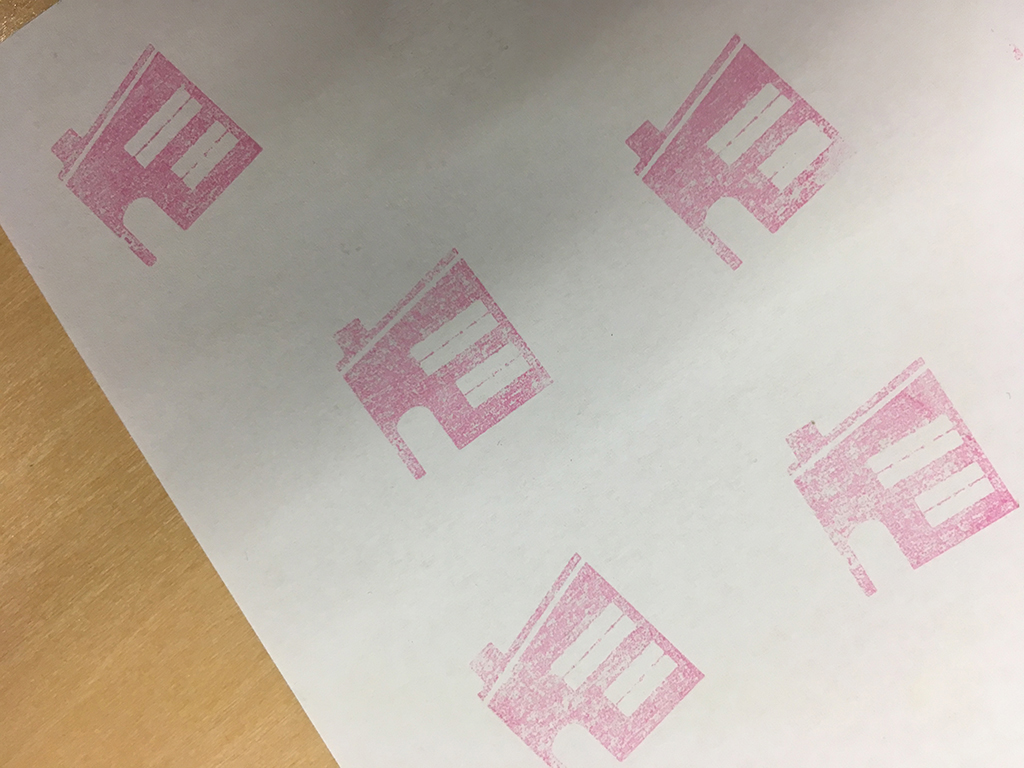house: (759, 339, 1024, 609), (609, 24, 870, 281), (313, 239, 560, 489), (464, 545, 713, 768), (44, 34, 273, 274)
